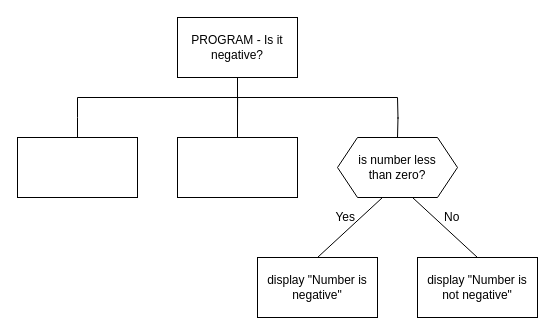
Some shapes in this 555 by 335 pixel diagram are drawn without their labels. Here are the shapes that lost their labels. From the top down, the centre of each, then its label:
At (x=77, y=167): "Initialise variables".
At (x=237, y=167): "get and store number".
